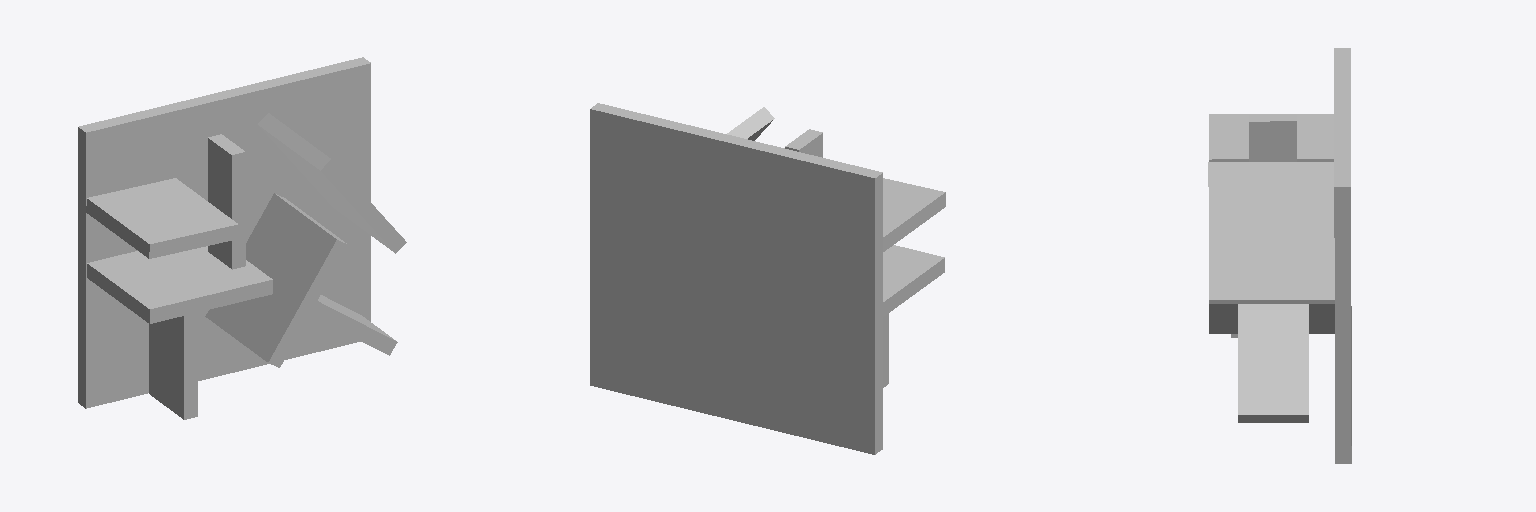
The model's file is room3.obj.
3 renders of one model, left to right at view 1: azimuth 30°, elevation 25°; view 2: azimuth 150°, elevation 25°; view 3: azimuth 270°, elevation 25°, orthographic.
Visible parts, largest first — view 1: Cube.001_Cube.002, Cube.004_Cube.005, Cube_Cube.001, Cube.007_Cube.008, Cube.006_Cube.007, Cube.002_Cube.003, Cube.003_Cube.004, Cube.005_Cube.006; view 2: Cube.001_Cube.002, Cube.007_Cube.008, Cube_Cube.001, Cube.006_Cube.007, Cube.003_Cube.004; view 3: Cube.006_Cube.007, Cube.005_Cube.006, Cube.001_Cube.002, Cube.007_Cube.008, Cube.003_Cube.004, Cube.004_Cube.005.
Part boxes in pixels (bbox=[...]): Cube.001_Cube.002: bbox=[78, 57, 370, 408]; Cube.004_Cube.005: bbox=[205, 193, 347, 367]; Cube_Cube.001: bbox=[87, 246, 272, 323]; Cube.007_Cube.008: bbox=[86, 178, 238, 258]; Cube.006_Cube.007: bbox=[257, 113, 406, 253]; Cube.002_Cube.003: bbox=[149, 313, 197, 419]; Cube.003_Cube.004: bbox=[208, 134, 245, 269]; Cube.005_Cube.006: bbox=[310, 295, 397, 355]; Cube.001_Cube.002: bbox=[590, 103, 882, 454]; Cube.007_Cube.008: bbox=[883, 178, 945, 251]; Cube_Cube.001: bbox=[883, 245, 944, 316]; Cube.006_Cube.007: bbox=[727, 107, 774, 140]; Cube.003_Cube.004: bbox=[785, 129, 822, 157]; Cube.006_Cube.007: bbox=[1208, 162, 1334, 303]; Cube.005_Cube.006: bbox=[1238, 304, 1308, 422]; Cube.001_Cube.002: bbox=[1334, 48, 1351, 463]; Cube.007_Cube.008: bbox=[1209, 114, 1333, 161]; Cube.003_Cube.004: bbox=[1249, 115, 1296, 161]; Cube.004_Cube.005: bbox=[1209, 304, 1334, 333].
Bounding box in the file's own units: 11.11 × 10.28 × 4.83.